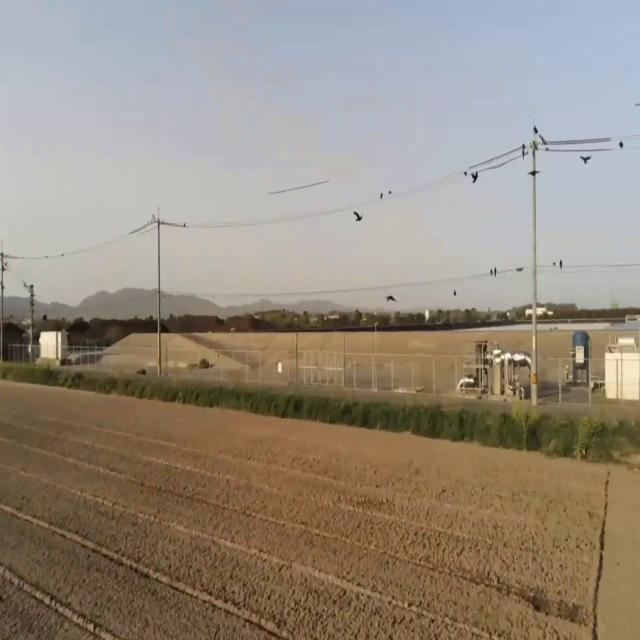bird: (352, 204, 363, 227), (580, 149, 592, 169), (24, 274, 32, 300), (385, 288, 396, 306), (471, 166, 479, 186), (522, 136, 526, 162), (379, 190, 384, 203), (619, 136, 623, 152), (464, 166, 468, 180), (493, 264, 496, 278)
